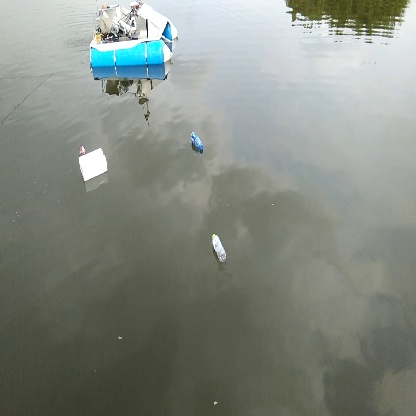bottle: (210, 231, 229, 264), (188, 128, 208, 155)
plastic-garbage: (77, 148, 112, 182)
